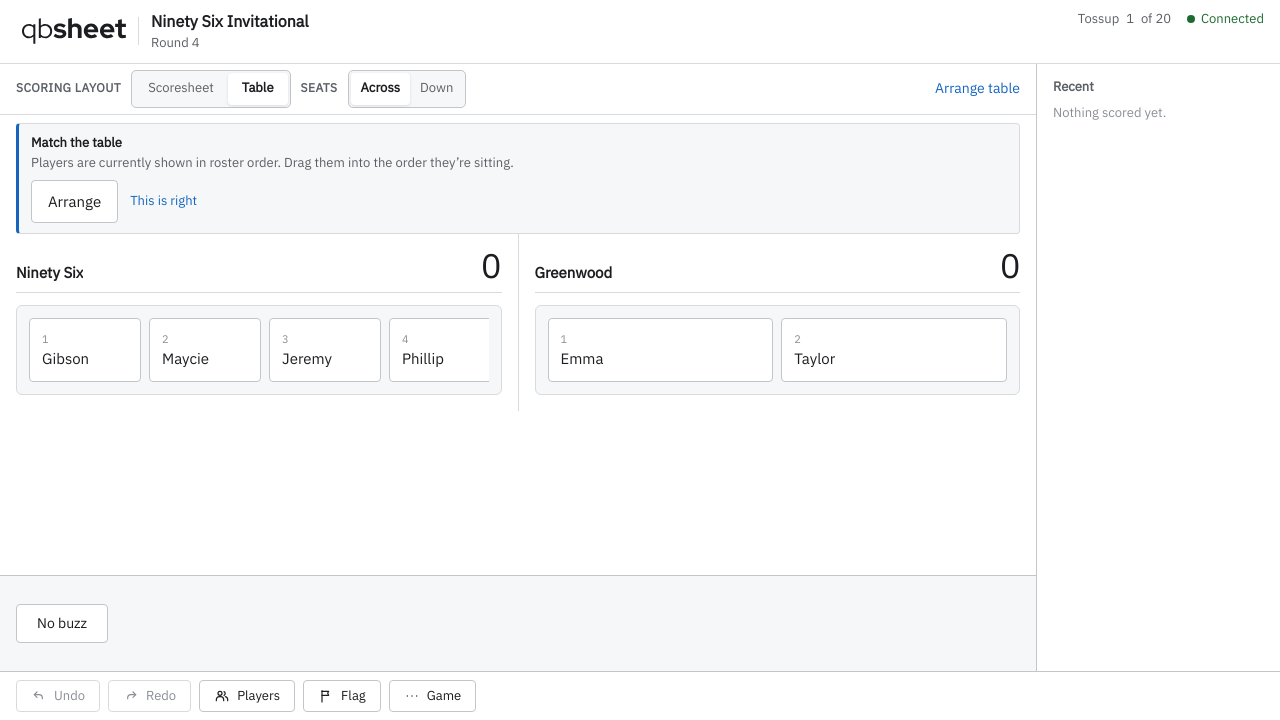
a ruling recorded from the table › a power is the format’s own top tier and nothing invented
Click the button "1 Gibson": click(85, 350) [29,318,141,382]
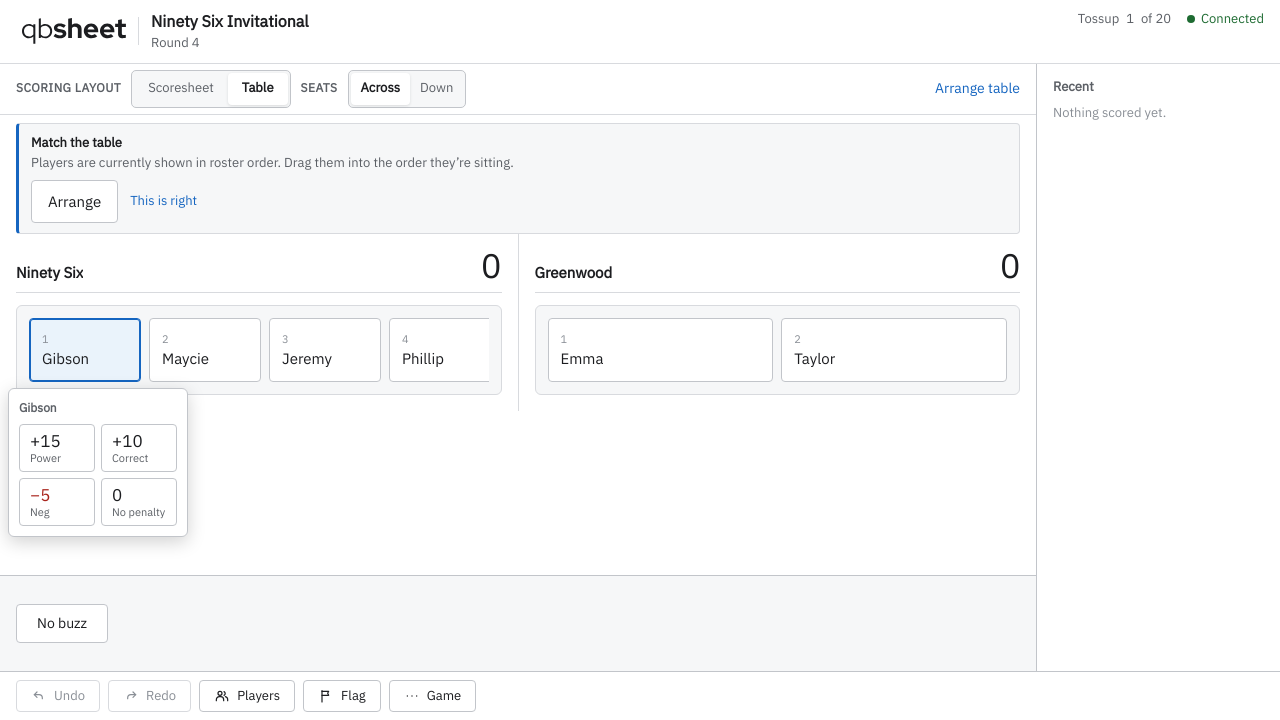
Click the button "+15 Power": click(57, 448) [19,424,95,472]
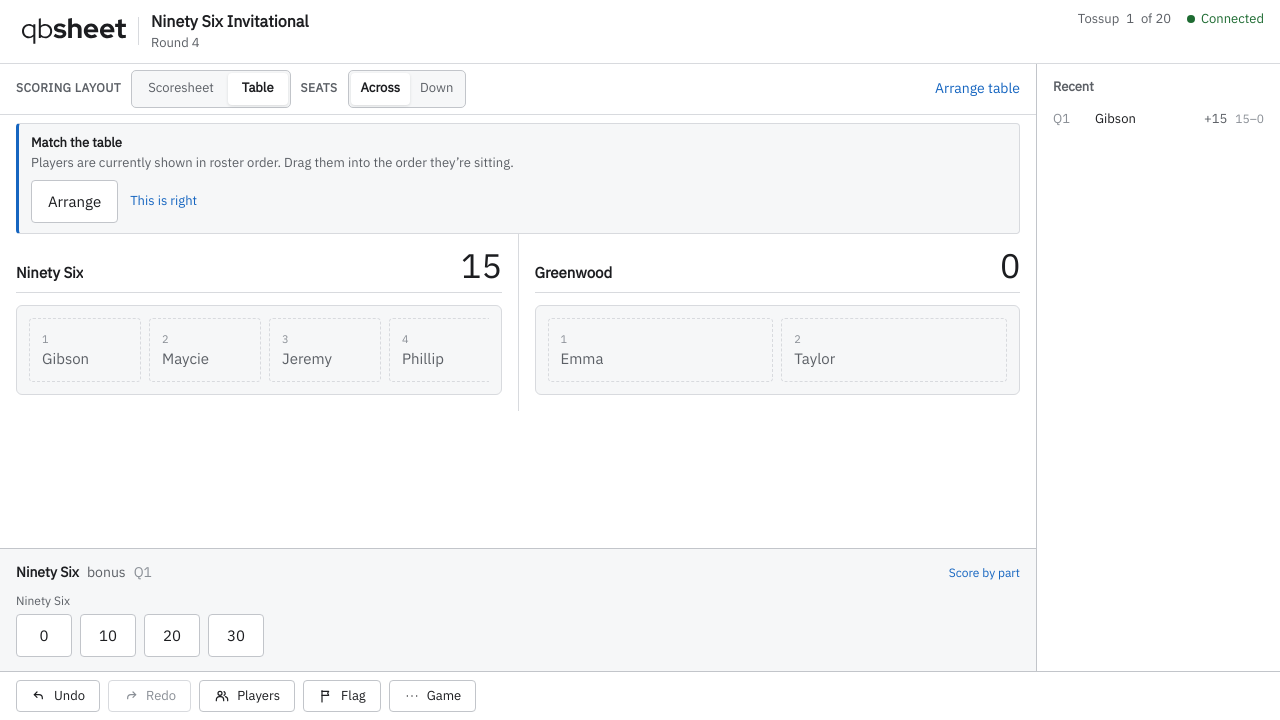
Now the element named "Ninety Six score" reads "15", box [461,243,502,287]
